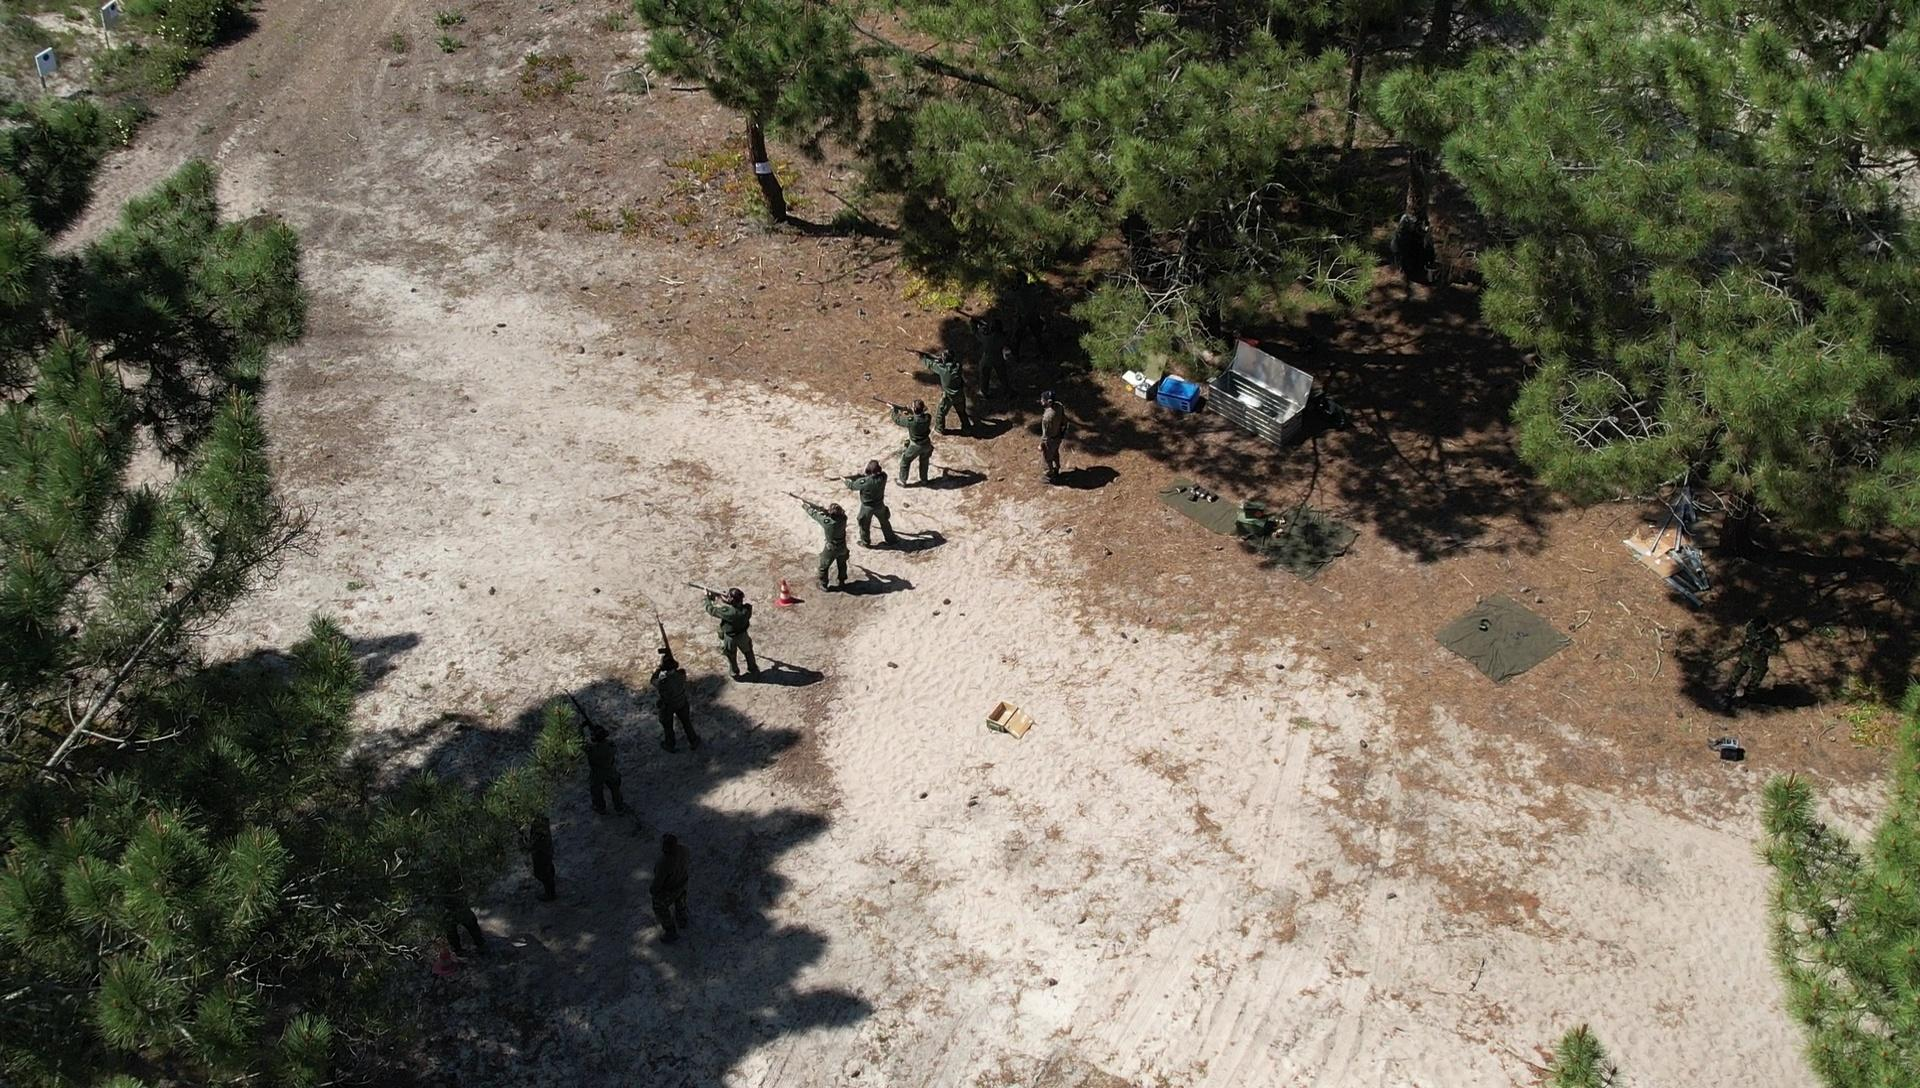Soldier: (636, 601, 709, 754), (564, 682, 626, 840), (640, 830, 713, 961), (799, 489, 865, 600), (1716, 611, 1784, 711), (699, 582, 762, 682), (873, 394, 940, 488), (914, 342, 978, 430), (843, 443, 899, 543), (1023, 382, 1075, 481), (972, 299, 1018, 400)
